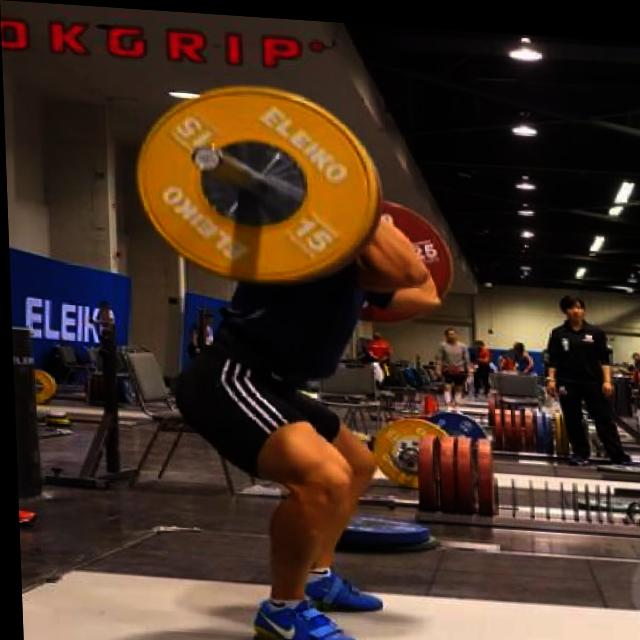barbell: (126, 71, 385, 295)
